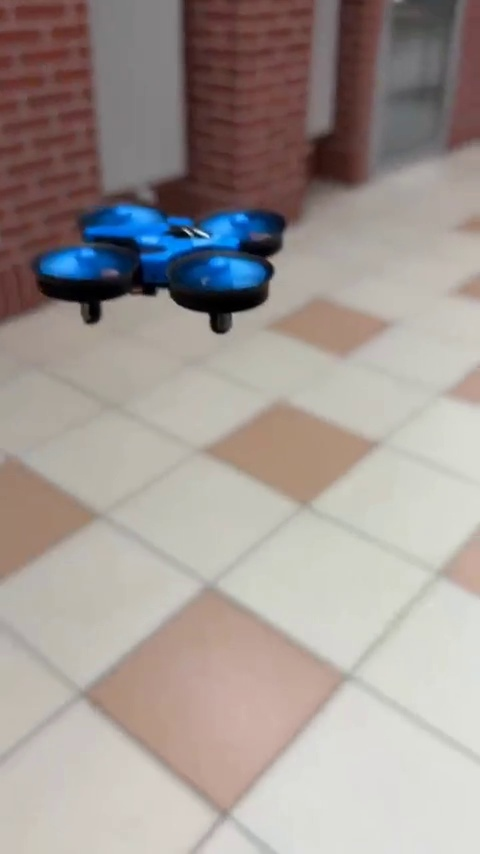drone: (35, 195, 283, 336)
